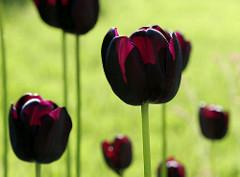tulip: (100, 23, 182, 106), (8, 90, 72, 165)
